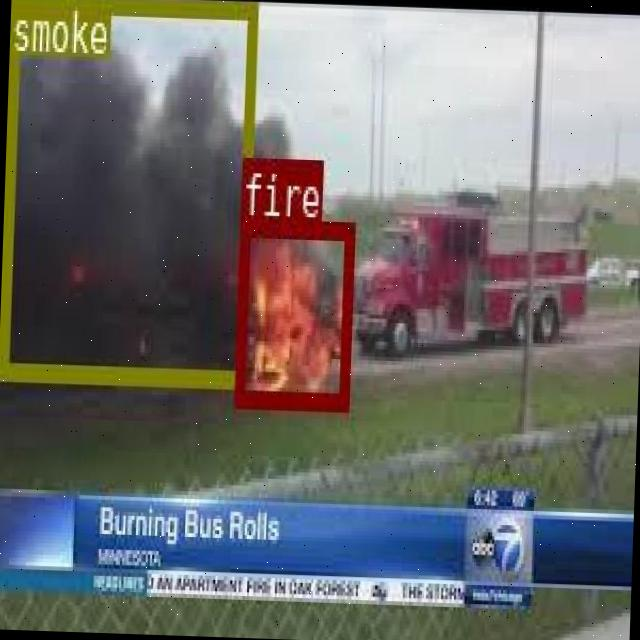fire: (234, 216, 354, 408)
smoke: (0, 0, 254, 386)
